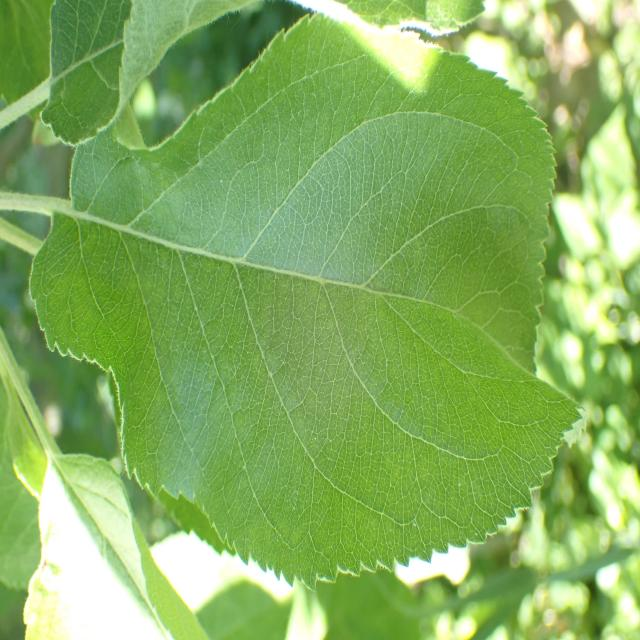healthy: (29, 10, 586, 592), (22, 452, 170, 640), (40, 0, 131, 147)
